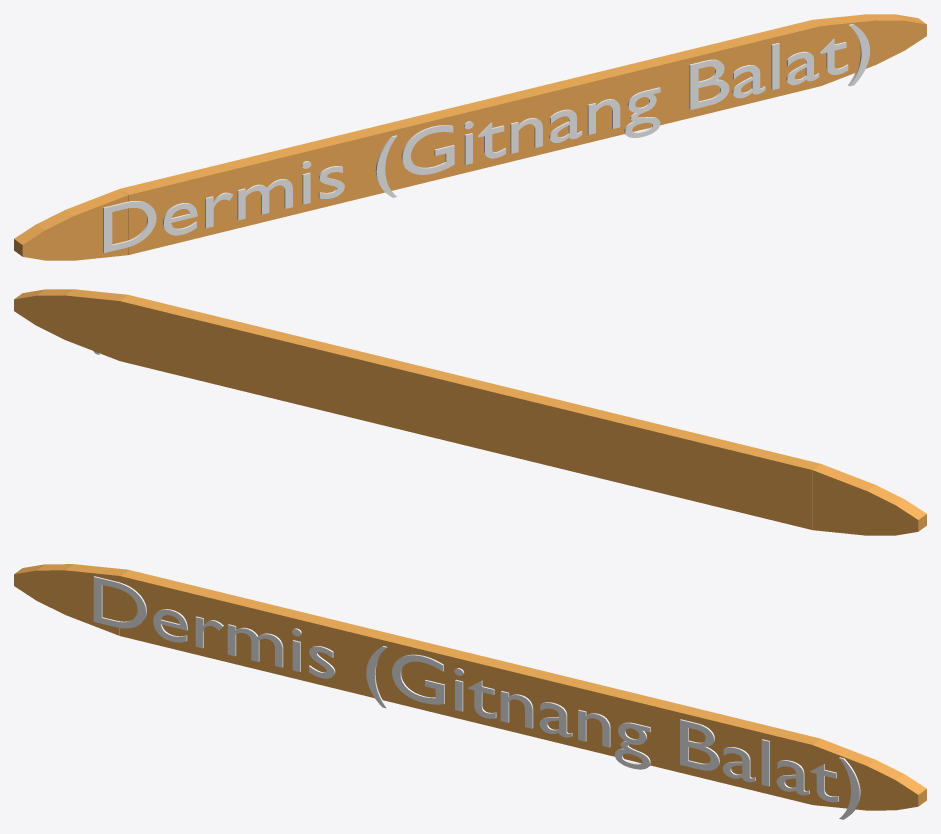
File: txtDermis.fbx
3 views of the same model, one above another, from view 1: azimuth 30°, elevation 25°; view 2: azimuth 150°, elevation 25°; view 3: azimuth 330°, elevation 25° (orthographic).
Visible parts, largest first — view 1: TagContainer.067, Text.068; view 2: TagContainer.067; view 3: TagContainer.067, Text.068.
Boxes of the visible parts, <box> form: TagContainer.067: <box>14,14,926,260</box>; Text.068: <box>103,24,870,253</box>; TagContainer.067: <box>14,289,926,535</box>; TagContainer.067: <box>14,564,926,810</box>; Text.068: <box>93,576,860,819</box>.
Size of the model in its own units: 651 by 45.66 by 11.92.
